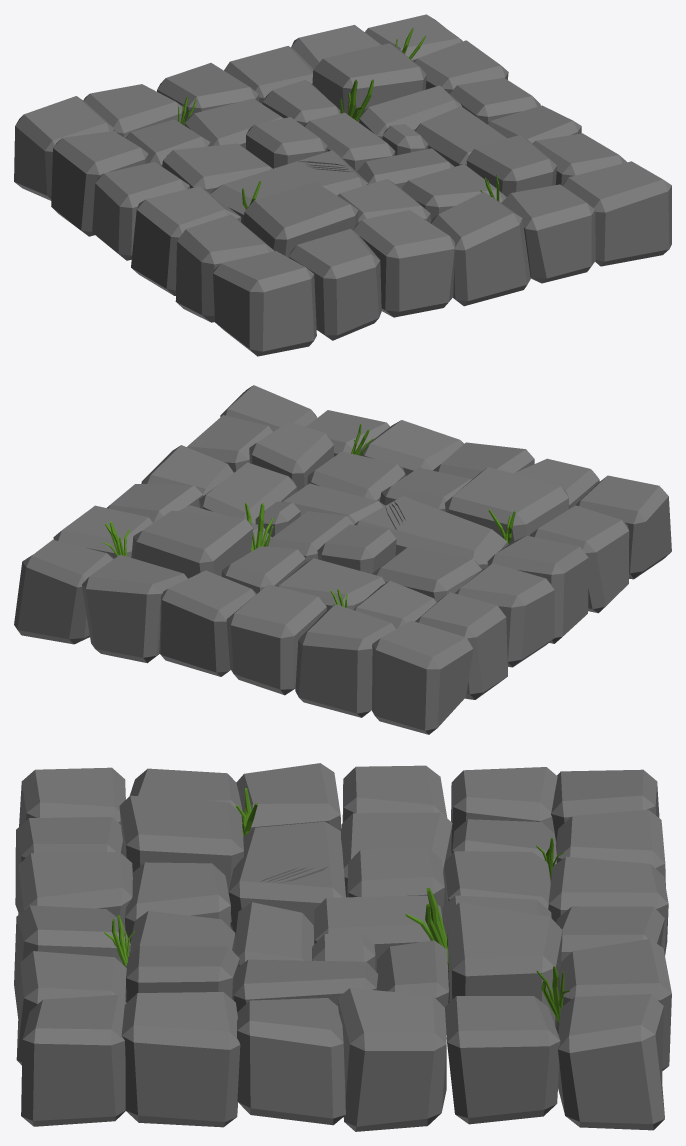
Rendered from Wand_001.fbx.
3 renders of one model, top to bottom at view 1: azimuth 30°, elevation 25°; view 2: azimuth 150°, elevation 25°; view 3: azimuth 270°, elevation 25°, orthographic. The views are drawn at different scales.
Parts seen in each view (by area): view 1: Cube.004; view 2: Cube.004; view 3: Cube.004.
Part boxes in pixels (box(x1,y1,x2,y2)): Cube.004: box(14, 14, 671, 356); Cube.004: box(14, 385, 671, 734); Cube.004: box(14, 763, 671, 1131).
Size of the model in its own units: 511 by 126 by 511.
